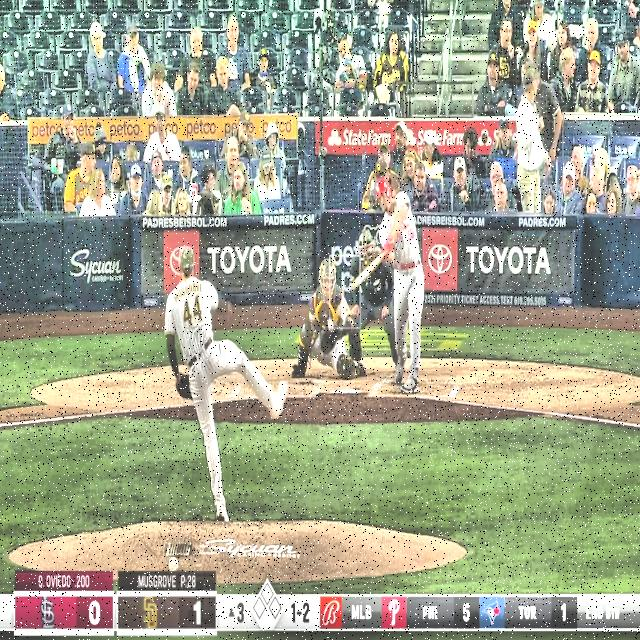baseball: (327, 318, 334, 332)
